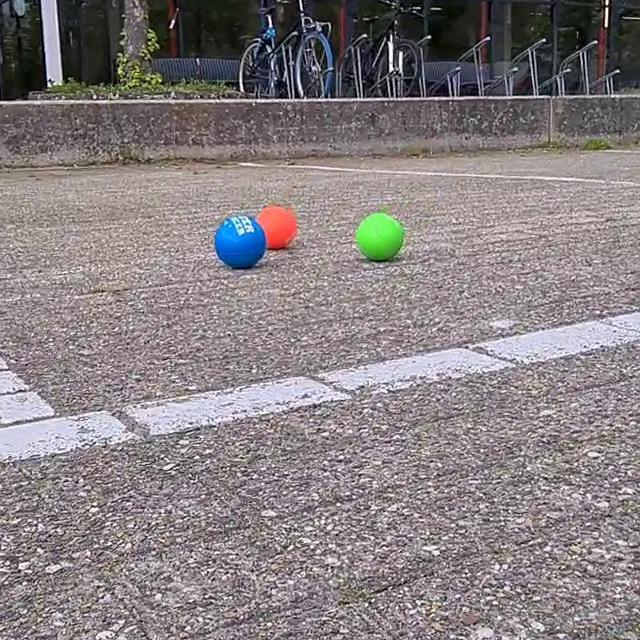ball: (214, 212, 268, 271), (356, 209, 406, 266), (254, 202, 302, 255)
